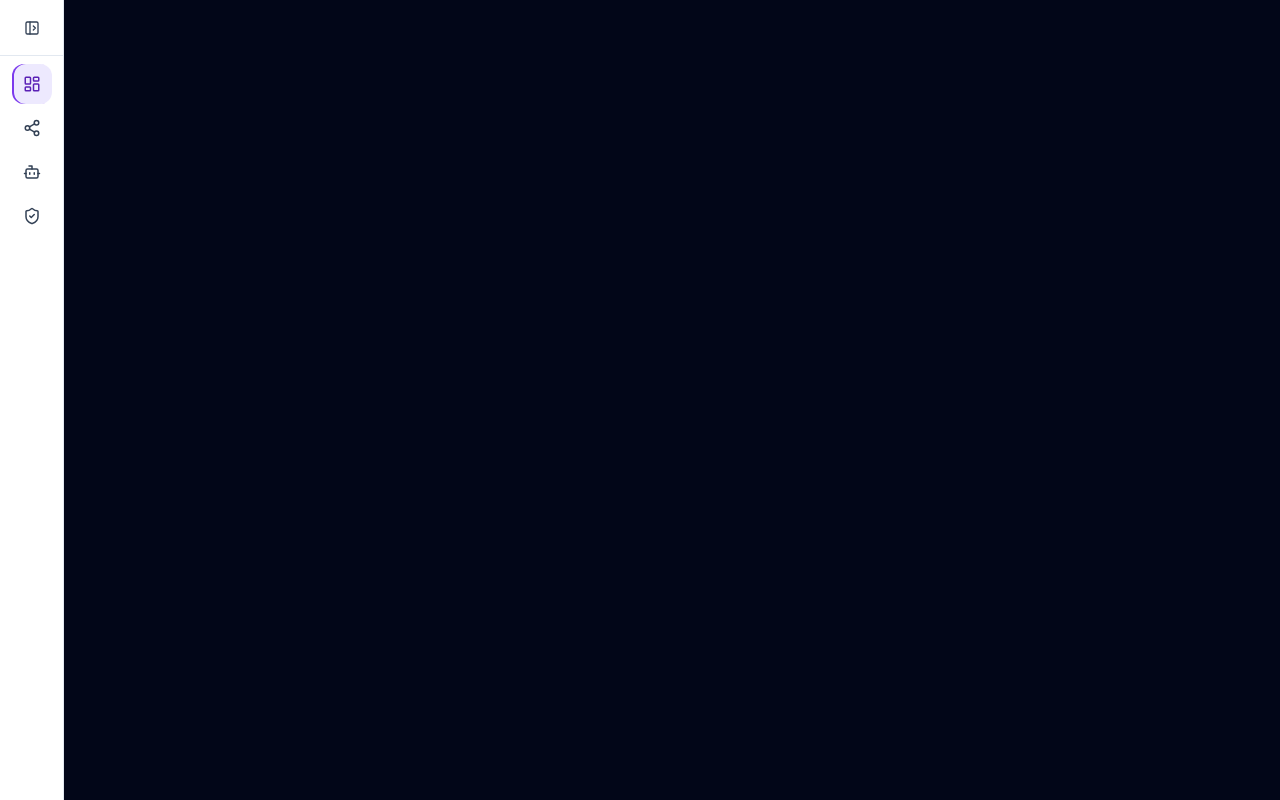
Test: rail mode › navigates from the flyout and closes it
Click the button named "Administration" at (32, 216), box [12, 196, 52, 236]
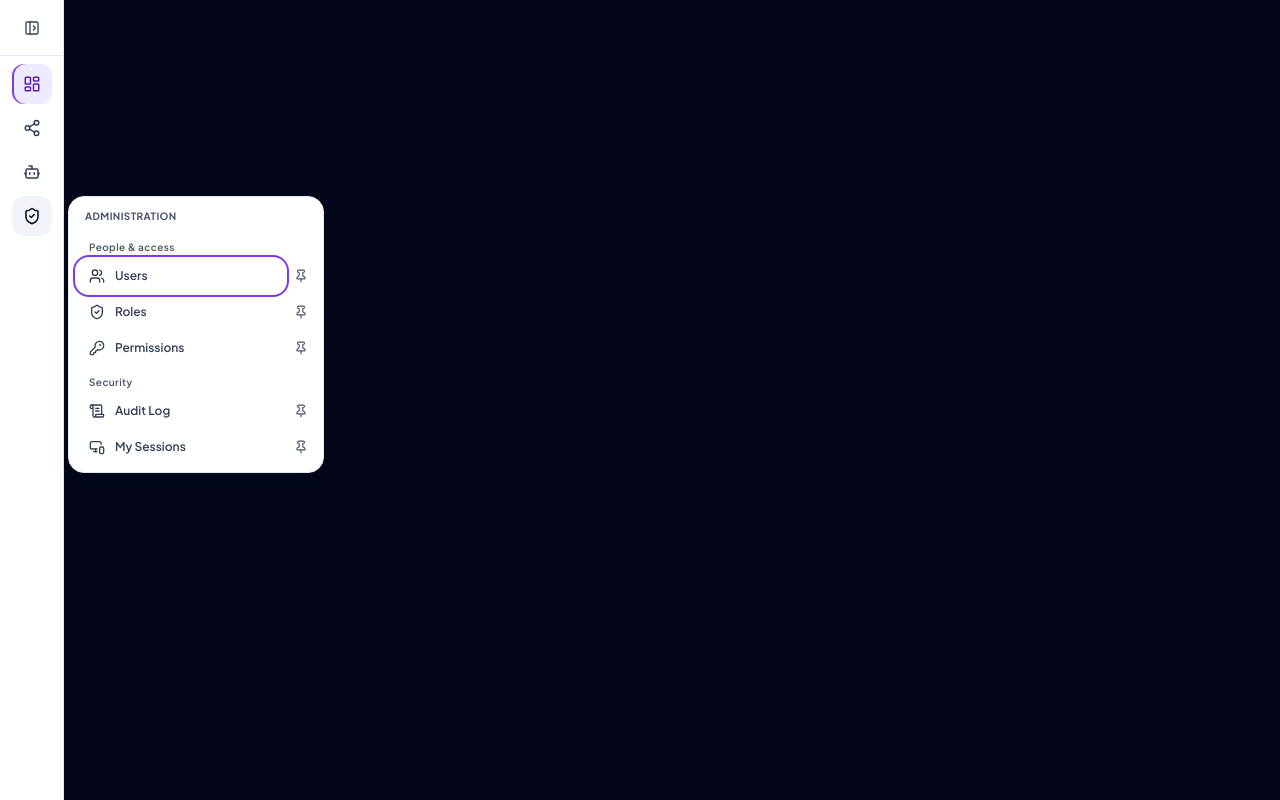
Click the button "Users" at (181, 276), box [77, 259, 285, 293]
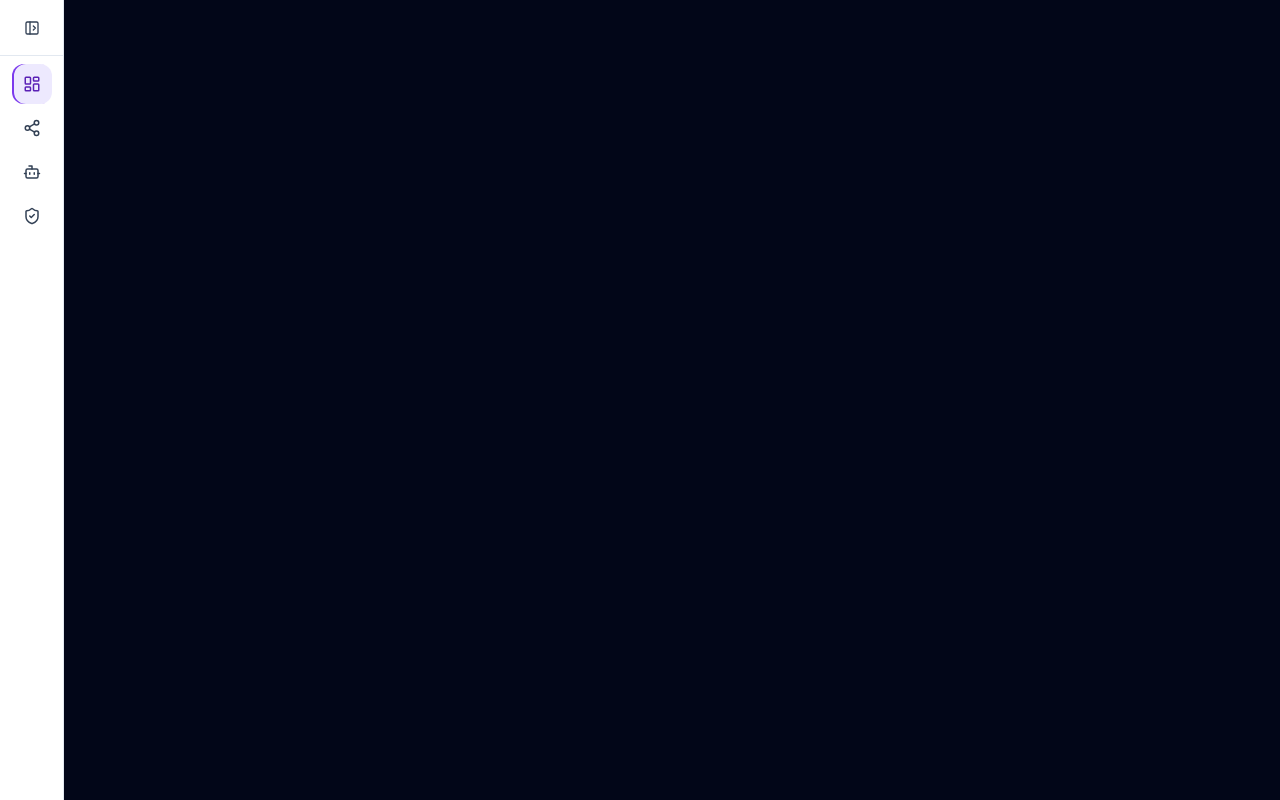
Check: the dialog is gone
